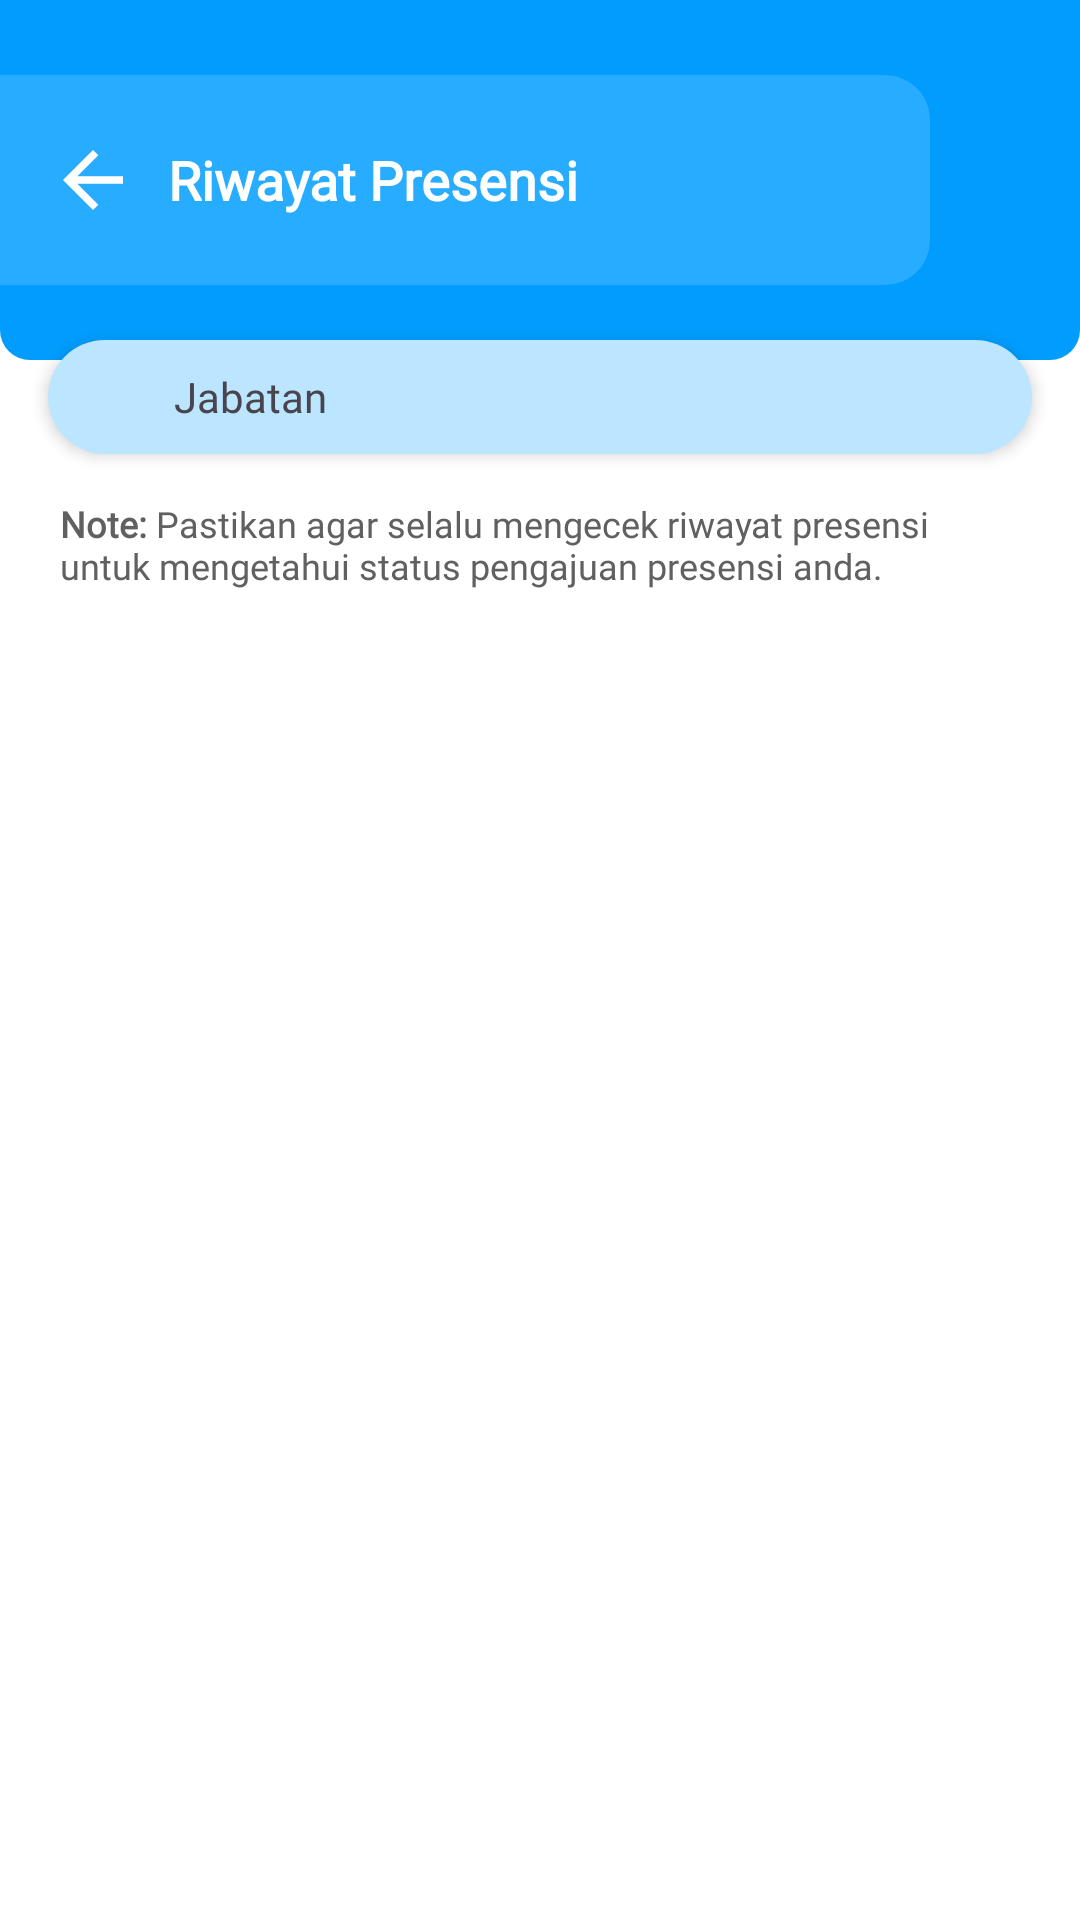

Icon click points for this 1080*1920 phone screenshot, format [x,y]:
Back: [93,180]
